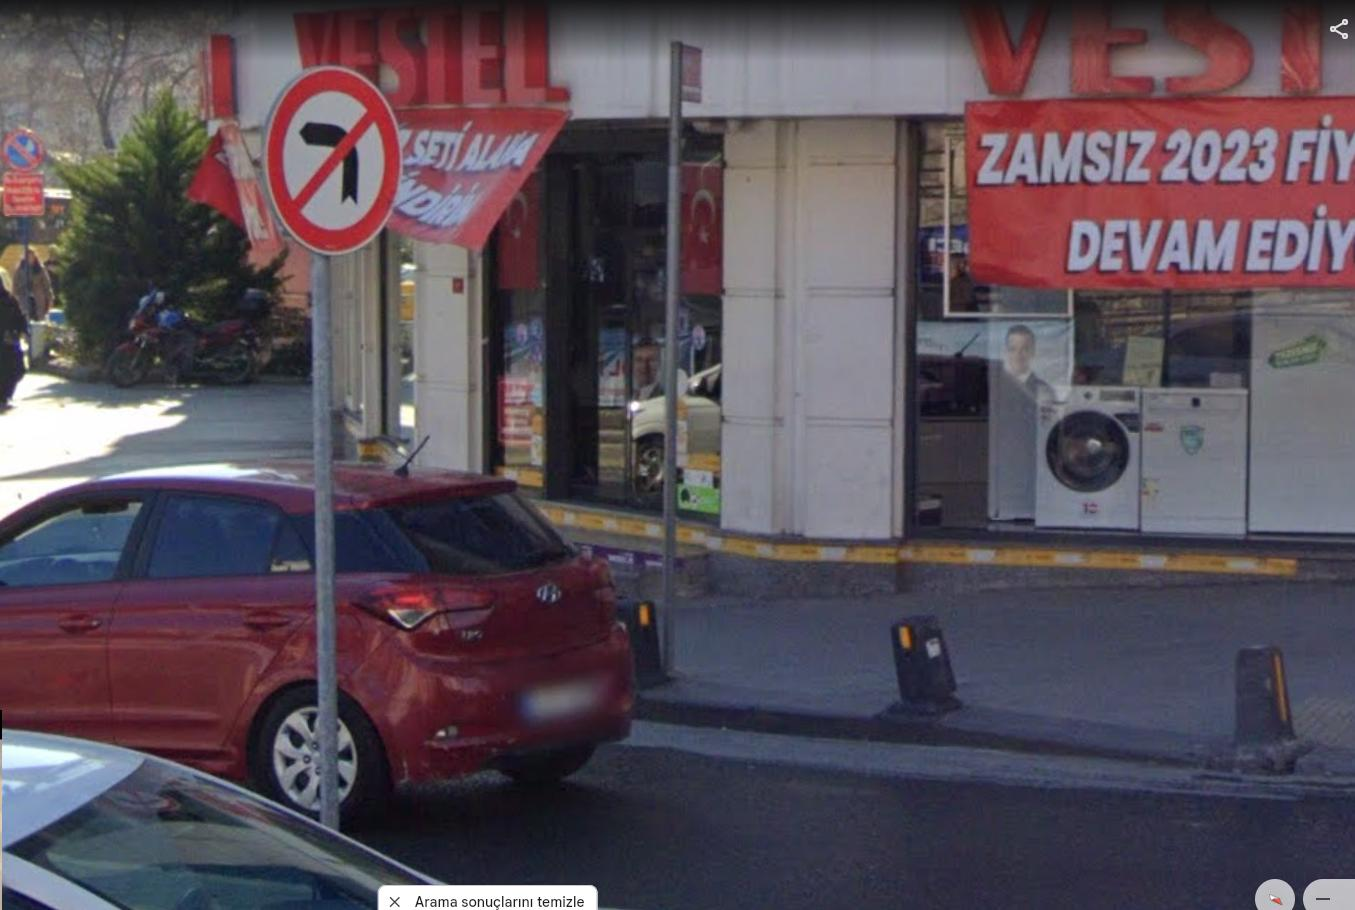leftturnsareforbidden: (273, 67, 399, 241)
